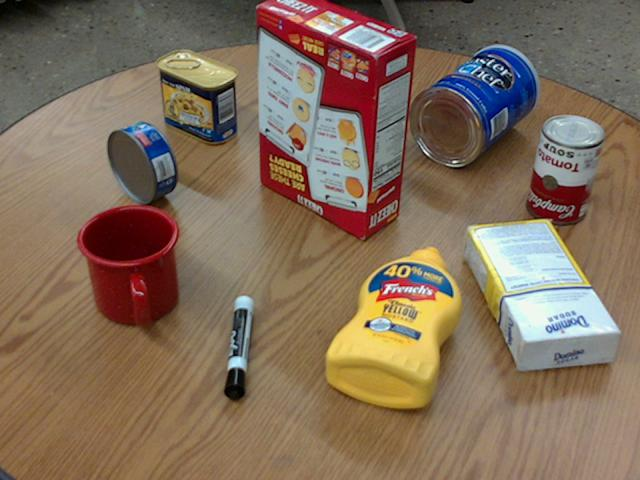cracker_box: (256, 0, 415, 237)
gelatin_box: (292, 62, 376, 118)
large_marker: (222, 295, 251, 399)
master_chef_can: (408, 45, 537, 165)
mug: (76, 205, 179, 326)
mustard_bottle: (324, 246, 460, 408)
potted_meat_can: (154, 51, 236, 143)
sugar_box: (461, 221, 620, 368)
tomato_soup_can: (524, 113, 602, 222)
tuna_fish_can: (107, 122, 176, 203)
